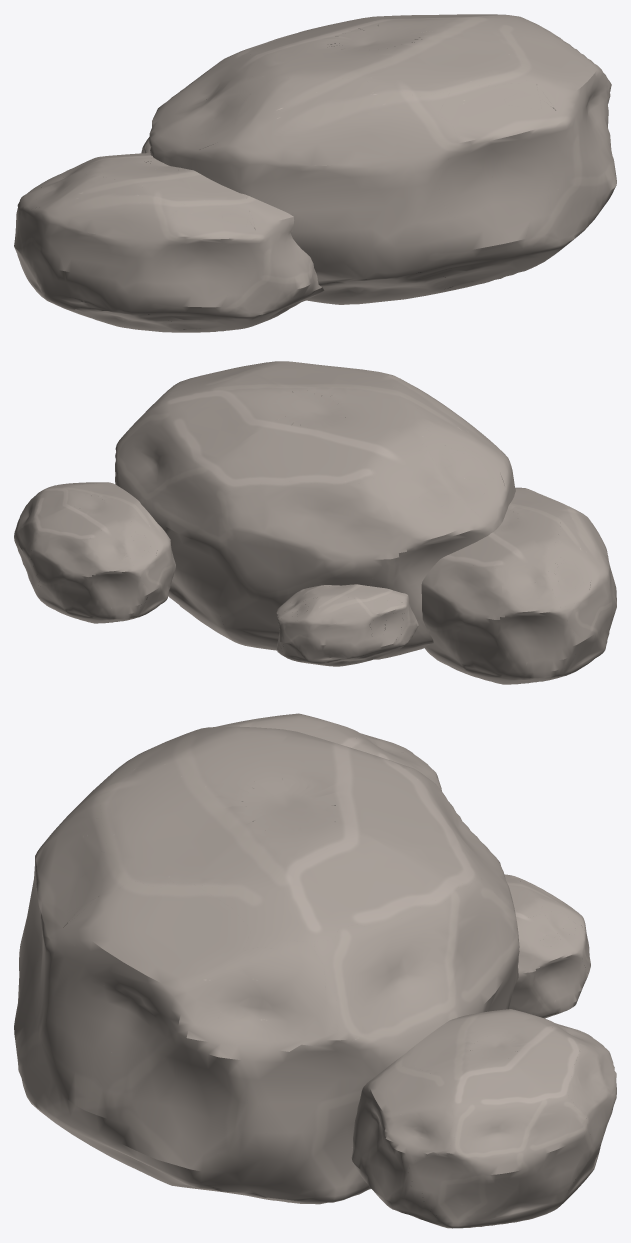
File: rock1.fbx
3 renders of one model, top to bottom at view 1: azimuth 30°, elevation 25°; view 2: azimuth 150°, elevation 25°; view 3: azimuth 270°, elevation 25°, orthographic. The views are drawn at different scales.
Parts seen in each view (by area): view 1: Sphere.001, Sphere.008; view 2: Sphere.001, Sphere.008, Sphere.004, Sphere.005; view 3: Sphere.001, Sphere.004, Sphere.005, Sphere.008.
Boxes of the visible parts, <box> form: Sphere.001: <box>149,14,616,304</box>; Sphere.008: <box>14,153,324,332</box>; Sphere.001: <box>115,361,515,659</box>; Sphere.008: <box>421,487,616,684</box>; Sphere.004: <box>14,482,175,623</box>; Sphere.005: <box>276,584,418,666</box>; Sphere.001: <box>14,726,519,1204</box>; Sphere.004: <box>351,1009,616,1228</box>; Sphere.005: <box>504,874,590,1018</box>; Sphere.008: <box>216,713,441,790</box>.
Size of the model in its own units: 1.51 by 0.5995 by 0.9522.
1 material, 1 textured.
